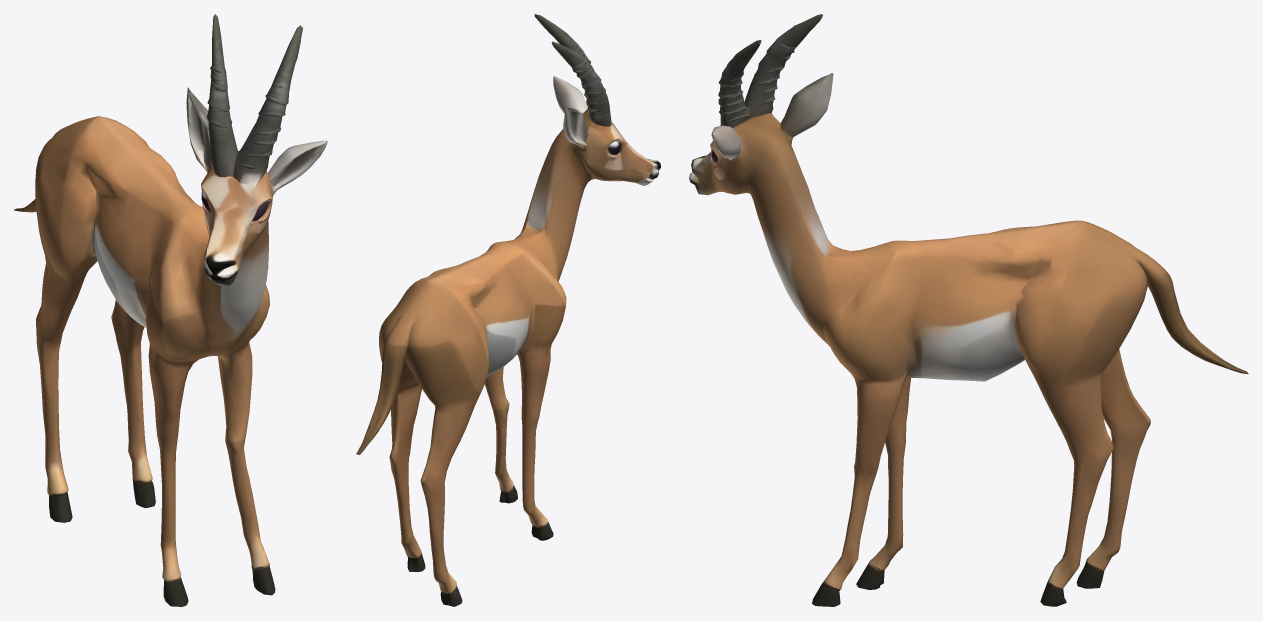
The model's file is gazelle.glb.
The picture shows the model from 3 angles, left to right: view 1: azimuth 30°, elevation 25°; view 2: azimuth 150°, elevation 25°; view 3: azimuth 270°, elevation 25°; orthographic projection. The views are drawn at different scales.
Parts seen in each view (by area): view 1: gazelle.001; view 2: gazelle.001; view 3: gazelle.001.
Part boxes in pixels (x1,y1,x2,y2): gazelle.001: [14, 14, 327, 606]; gazelle.001: [356, 14, 660, 606]; gazelle.001: [689, 14, 1248, 606].
Bounding box in the file's own units: 0.281 × 1.05 × 0.9212.
Materials: 1 (1 with a texture image).
